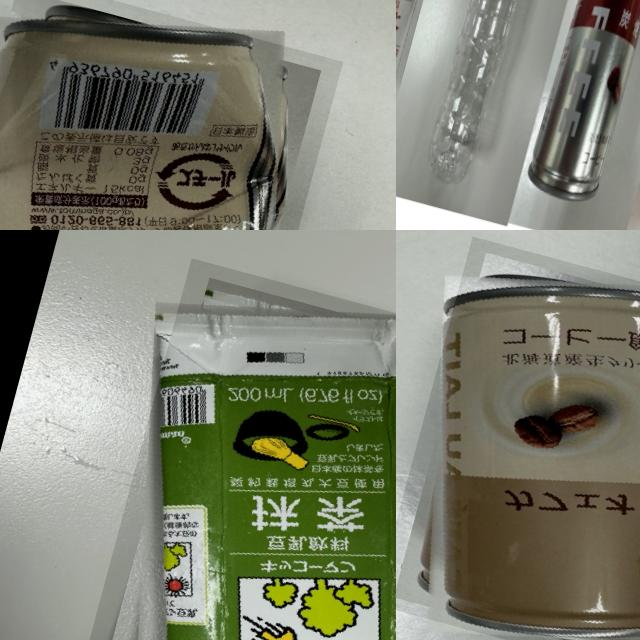Aluminium Foil: (64, 258, 396, 640), (396, 0, 453, 132)
Can: (396, 236, 640, 640), (0, 0, 342, 230), (518, 0, 640, 209)
Transparent Plastic Bottle: (418, 0, 556, 190)
